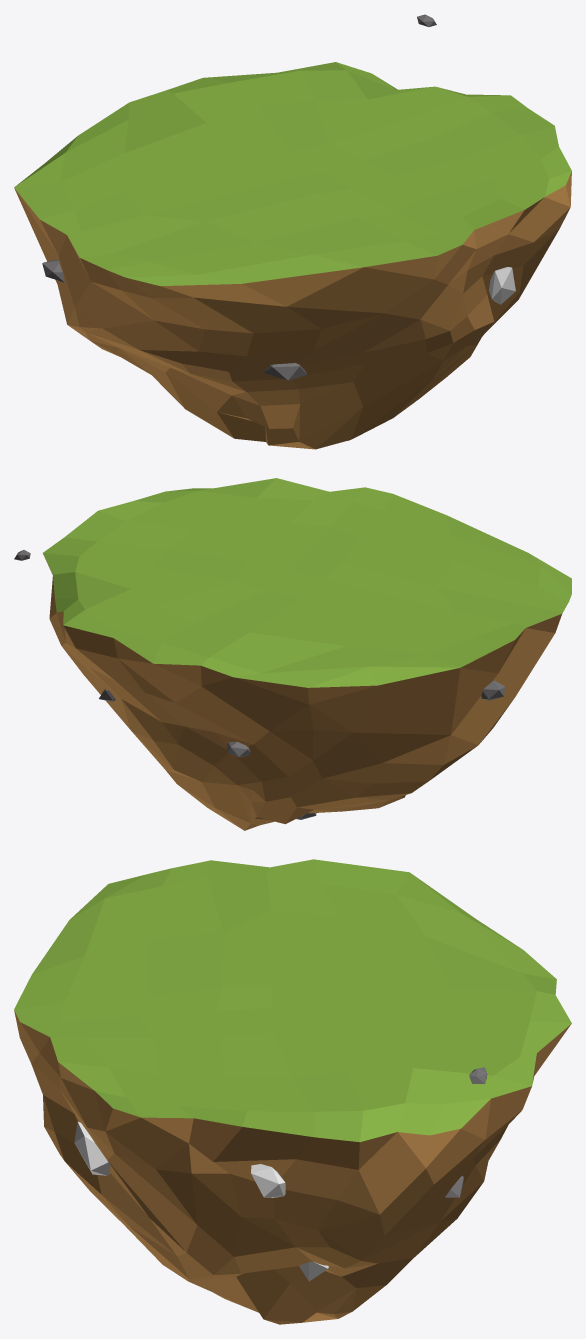
File: Kampfinsel.fbx
The picture shows the model from 3 angles, top to bottom: view 1: azimuth 30°, elevation 25°; view 2: azimuth 150°, elevation 25°; view 3: azimuth 270°, elevation 25°; orthographic projection. The views are drawn at different scales.
Parts seen in each view (by area): view 1: Cube.002, stein.024, stein.023; view 2: Cube.002; view 3: Cube.002, stein.024, stein.019.
Part boxes in pixels (x1,y1,x2,y2): Cube.002: [14, 62, 571, 449]; stein.024: [489, 267, 515, 304]; stein.023: [263, 363, 307, 380]; Cube.002: [43, 478, 571, 830]; Cube.002: [14, 859, 571, 1324]; stein.024: [74, 1122, 110, 1175]; stein.019: [251, 1164, 285, 1197].
Size of the model in its own units: 1250 by 732 by 1076.
